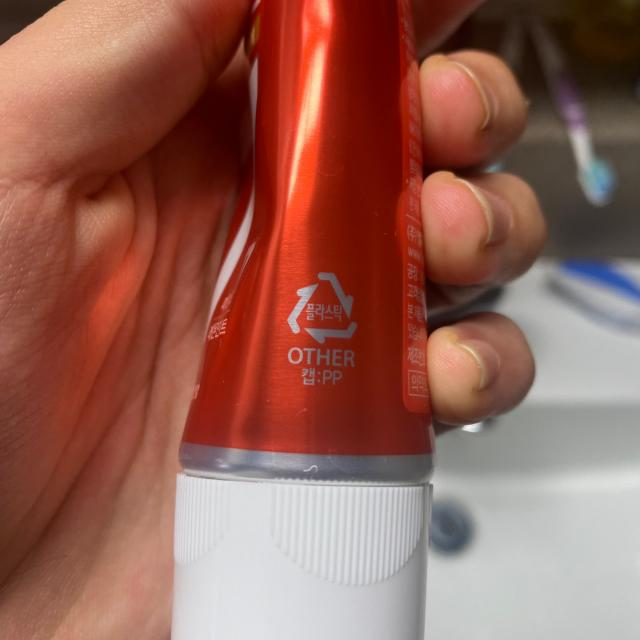Plastic: (284, 267, 362, 346)
